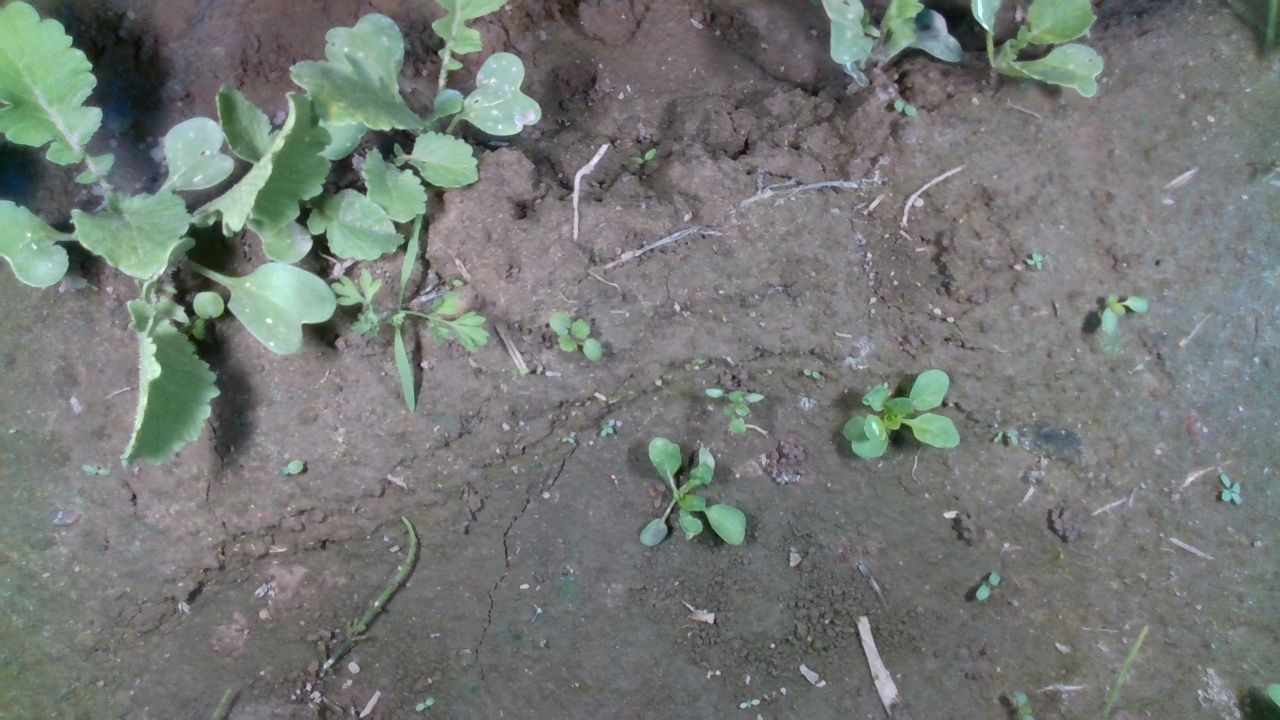weed: (548, 310, 604, 362), (1217, 471, 1243, 505), (973, 571, 1001, 602), (630, 145, 659, 166), (1024, 250, 1043, 272), (80, 464, 111, 475), (801, 367, 821, 379)
